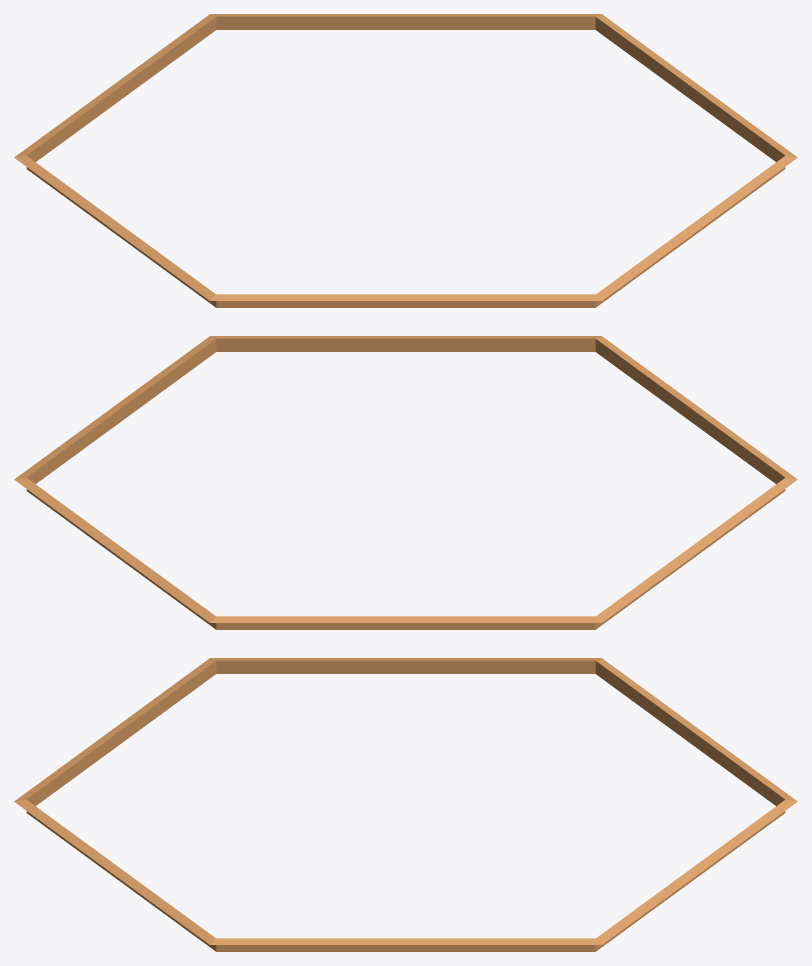
Rendered from Ring.fbx.
3 renders of one model, top to bottom at view 1: azimuth 30°, elevation 25°; view 2: azimuth 150°, elevation 25°; view 3: azimuth 270°, elevation 25°, orthographic.
Visible parts, largest first — view 1: 圆环; view 2: 圆环; view 3: 圆环.
Part boxes in pixels (left/top/right/bottom): 圆环: left=14, top=14, right=797, bottom=307; 圆环: left=14, top=336, right=797, bottom=629; 圆环: left=14, top=658, right=797, bottom=951.
Size of the model in its own units: 520 by 11.32 by 600.
